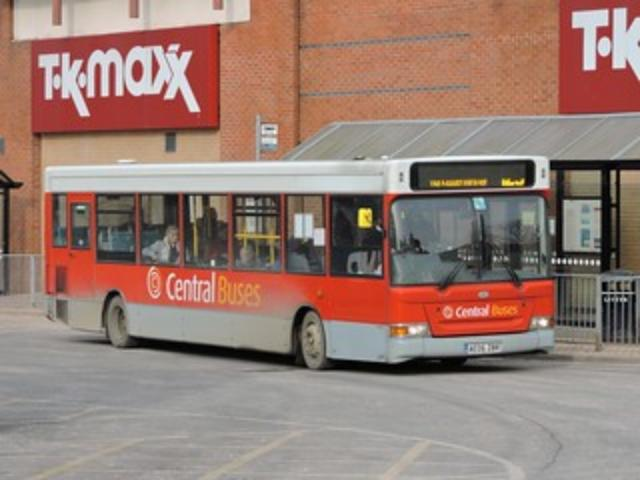bus: (44, 154, 554, 372)
